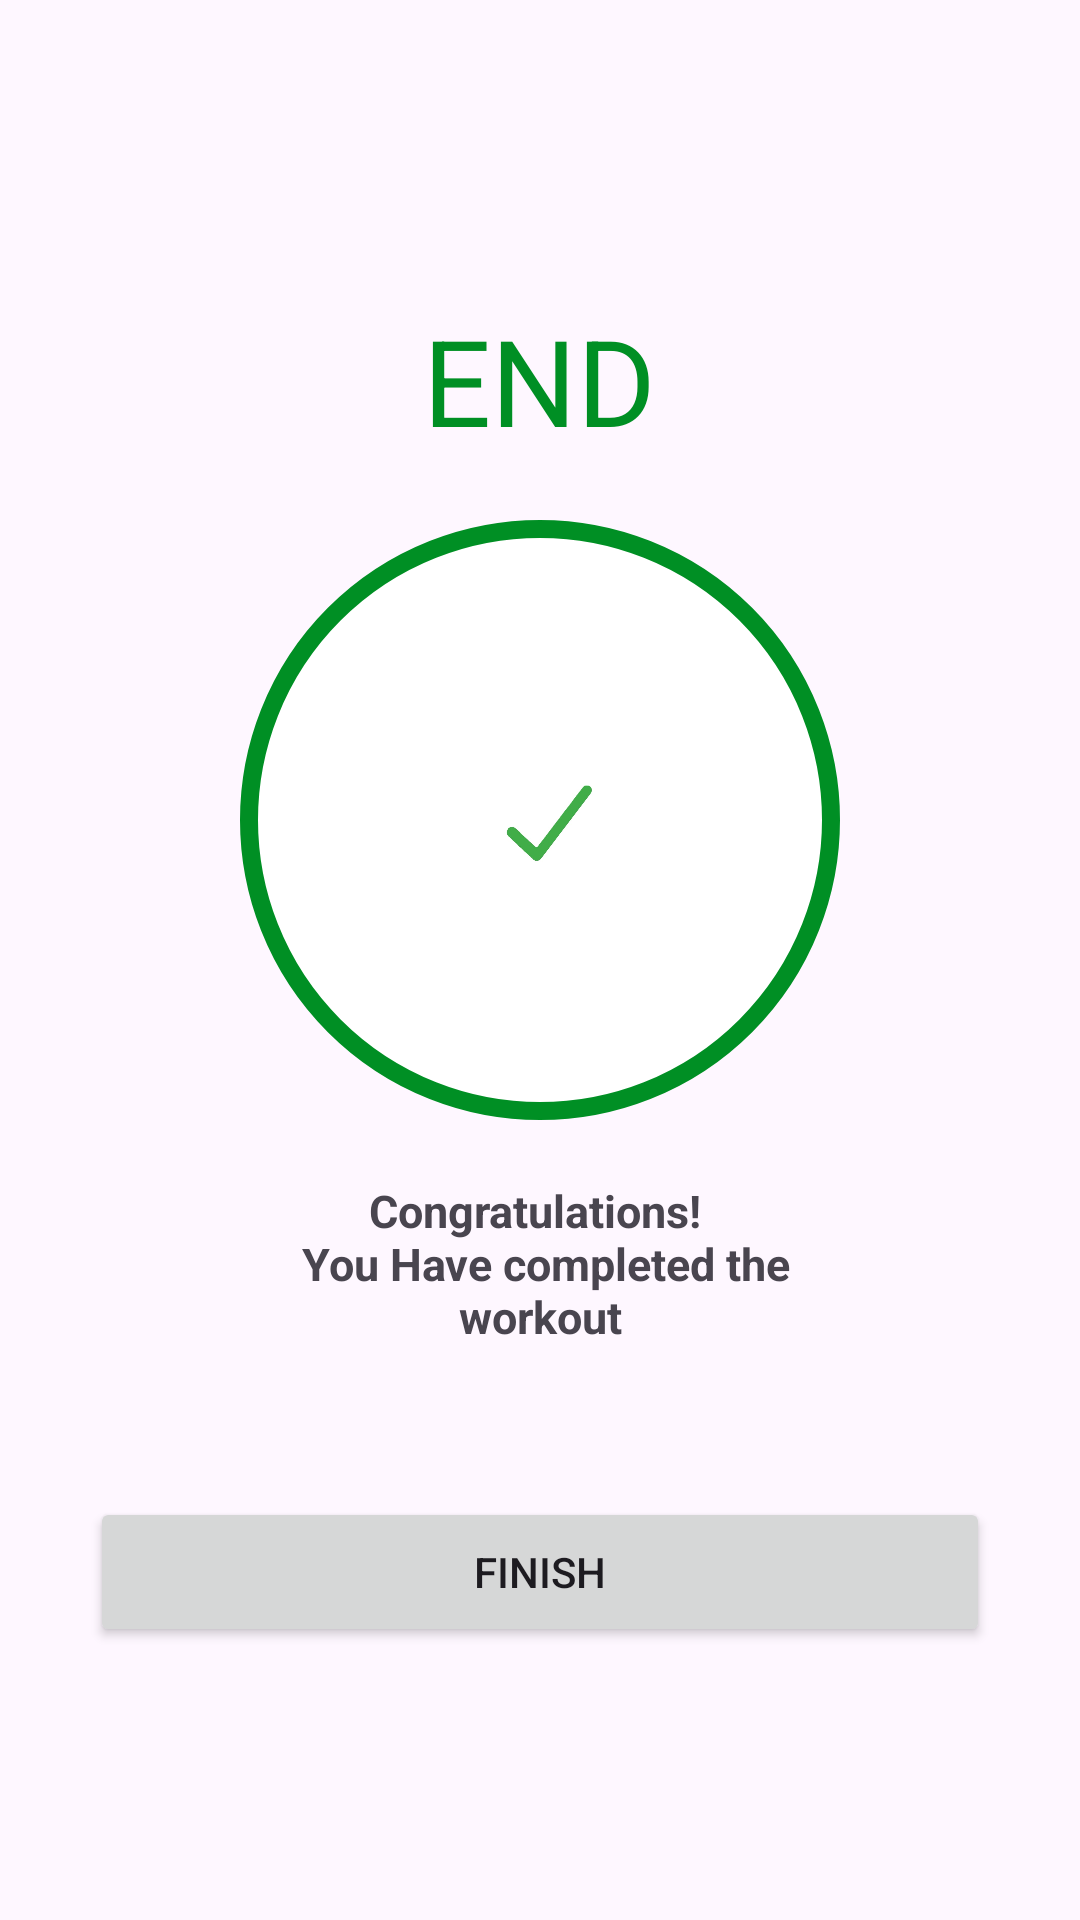

Named icons in this screenshot (1080px×1920px) and their bounding boxes, [x1,y1,x2,y2]:
check mark symbol: [507,785,592,861]
